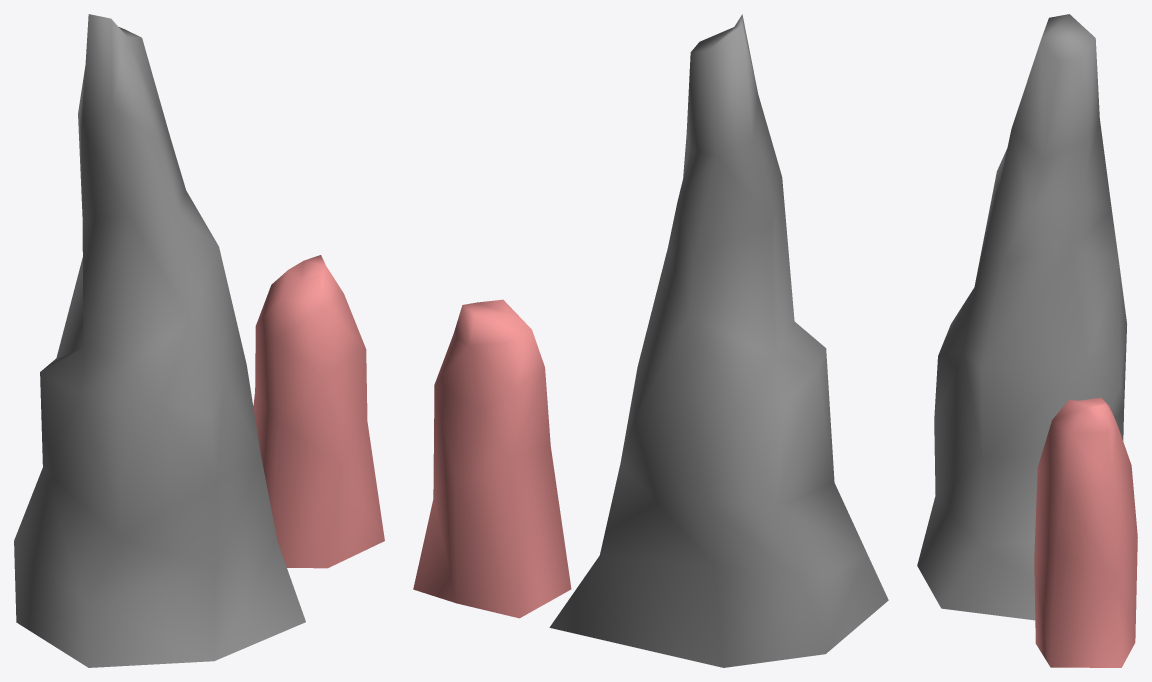
The model's file is StoneH_07.gltf.
The picture shows the model from 3 angles, left to right: view 1: azimuth 30°, elevation 25°; view 2: azimuth 150°, elevation 25°; view 3: azimuth 270°, elevation 25°; orthographic projection. The views are drawn at different scales.
Parts seen in each view (by area): view 1: StoneH_07; view 2: StoneH_07; view 3: StoneH_07.
Boxes of the visible parts, x1,y1,x2,y2 form: StoneH_07: (14,14,384,667); StoneH_07: (413,14,888,667); StoneH_07: (917,14,1137,667).
Bounding box in the file's own units: 2.02 × 3.22 × 1.19.
